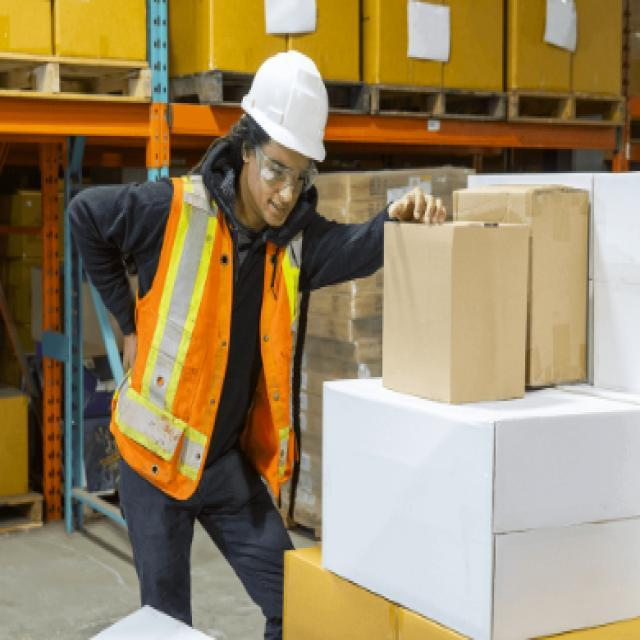hard_hat: (231, 46, 335, 236)
vest: (101, 167, 313, 519)
